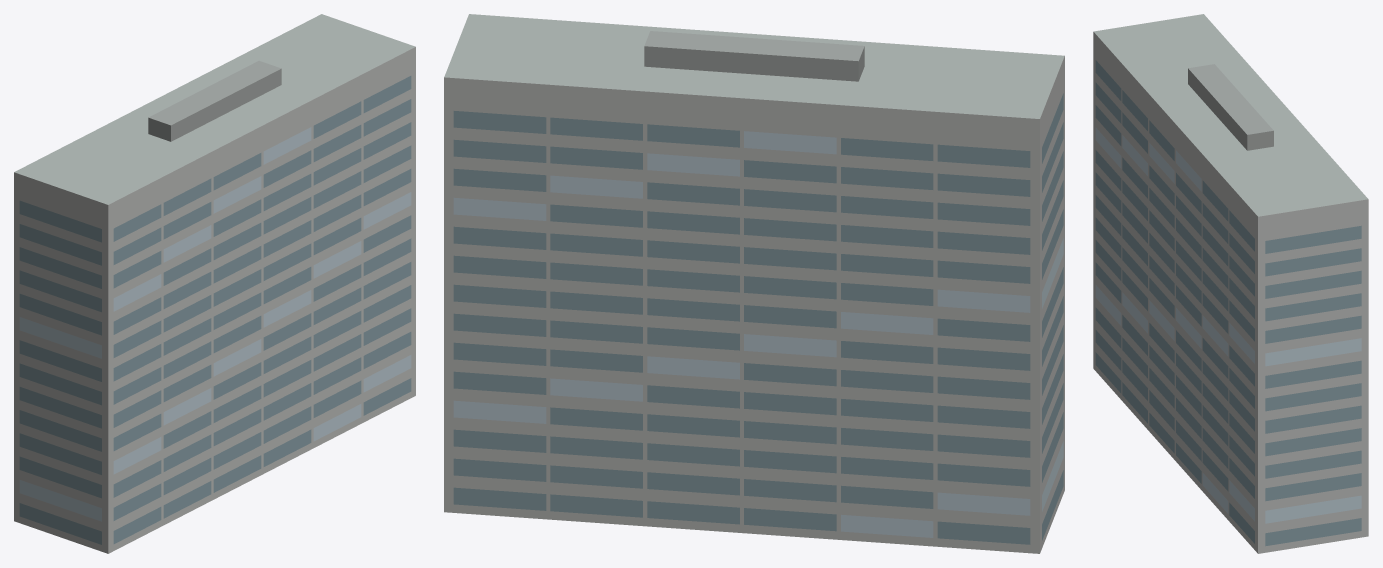
File: fallback-songpa-helio-city-501.glb
3 renders of one model, left to right at view 1: azimuth 30°, elevation 25°; view 2: azimuth 150°, elevation 25°; view 3: azimuth 270°, elevation 25°, orthographic. The views are drawn at different scales.
Parts seen in each view (by area): view 1: fallback-songpa-helio-city-501; view 2: fallback-songpa-helio-city-501; view 3: fallback-songpa-helio-city-501.
Part boxes in pixels (bbox=[...]): fallback-songpa-helio-city-501: bbox=[14, 14, 415, 553]; fallback-songpa-helio-city-501: bbox=[444, 14, 1064, 553]; fallback-songpa-helio-city-501: bbox=[1093, 14, 1368, 553].
Size of the model in its own units: 52.96 by 43 by 30.37.
